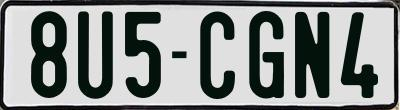4: (339, 12, 379, 99)
5: (125, 9, 161, 99)
8: (28, 8, 66, 97)
C: (198, 9, 236, 101)
G: (248, 8, 289, 102)
N: (295, 12, 331, 104)
U: (75, 10, 112, 99)
